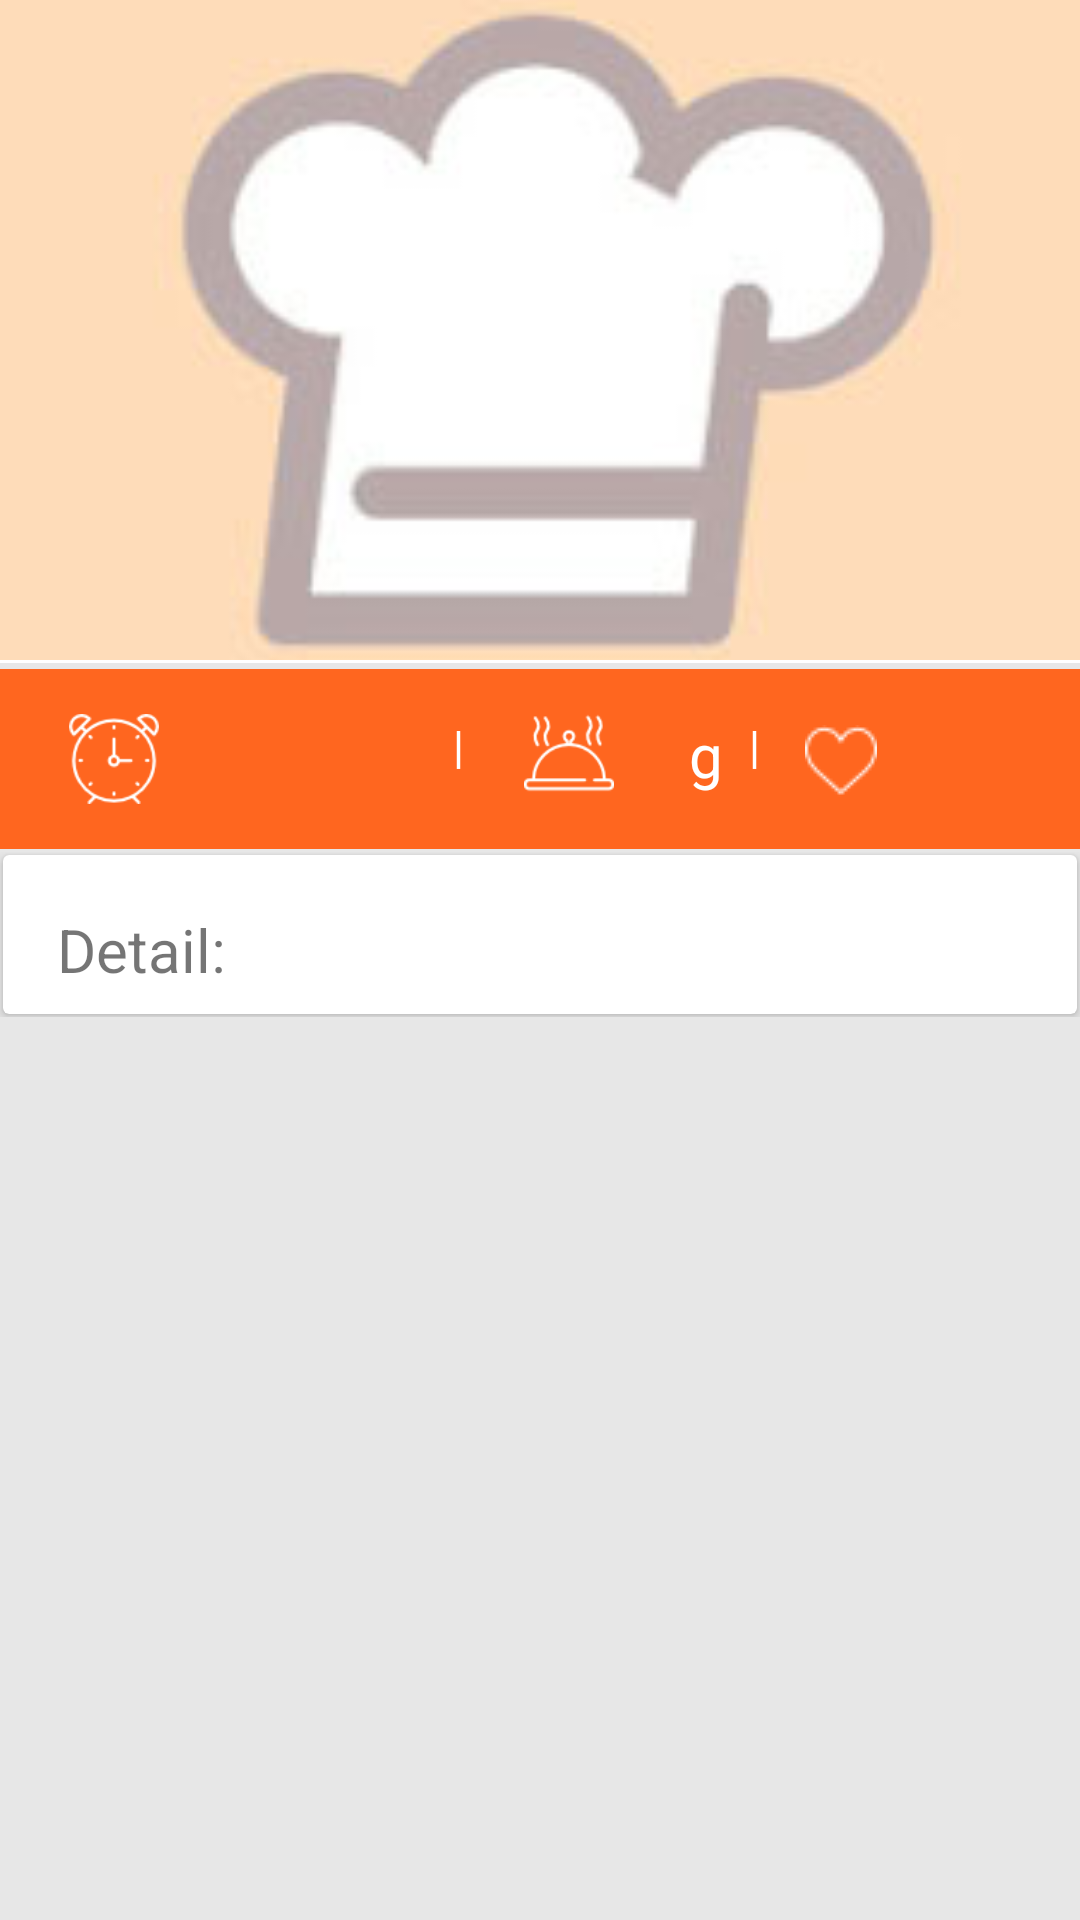

Icons on this 1080 × 1920 Android screen, each with the point to tap as [x,y]:
alarmclock: [114,759]
